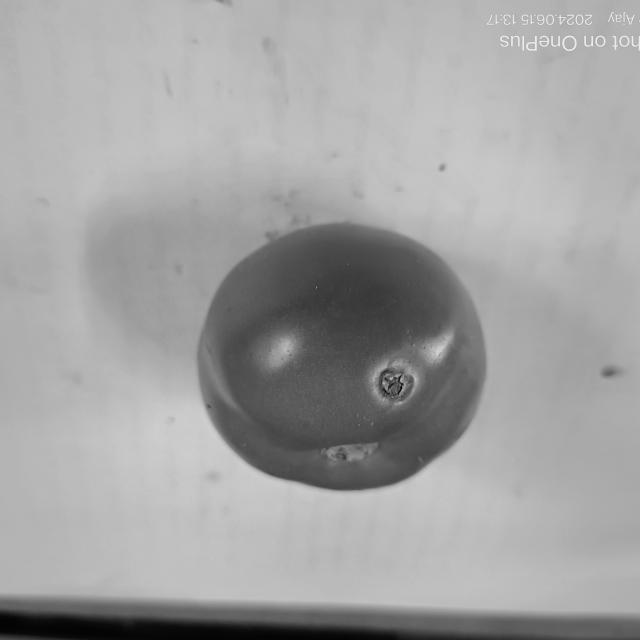Bacterial_Spot: (369, 364, 418, 404)
